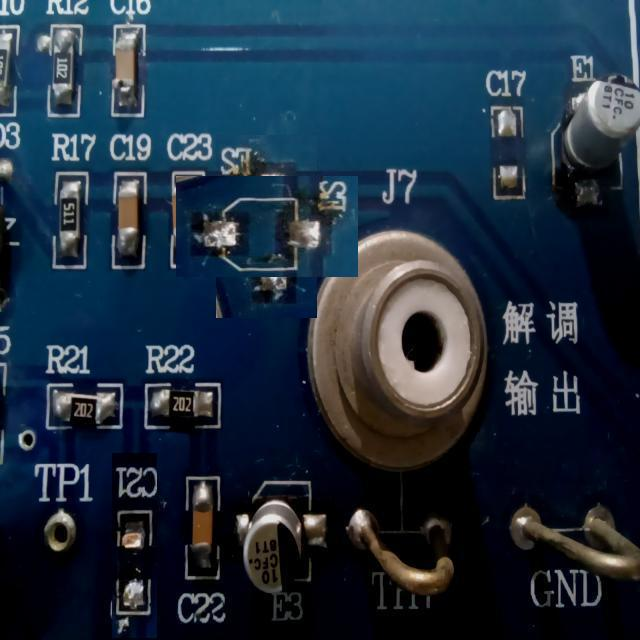miss_welding: (195, 156, 338, 298), (480, 51, 535, 216), (111, 452, 157, 638)
